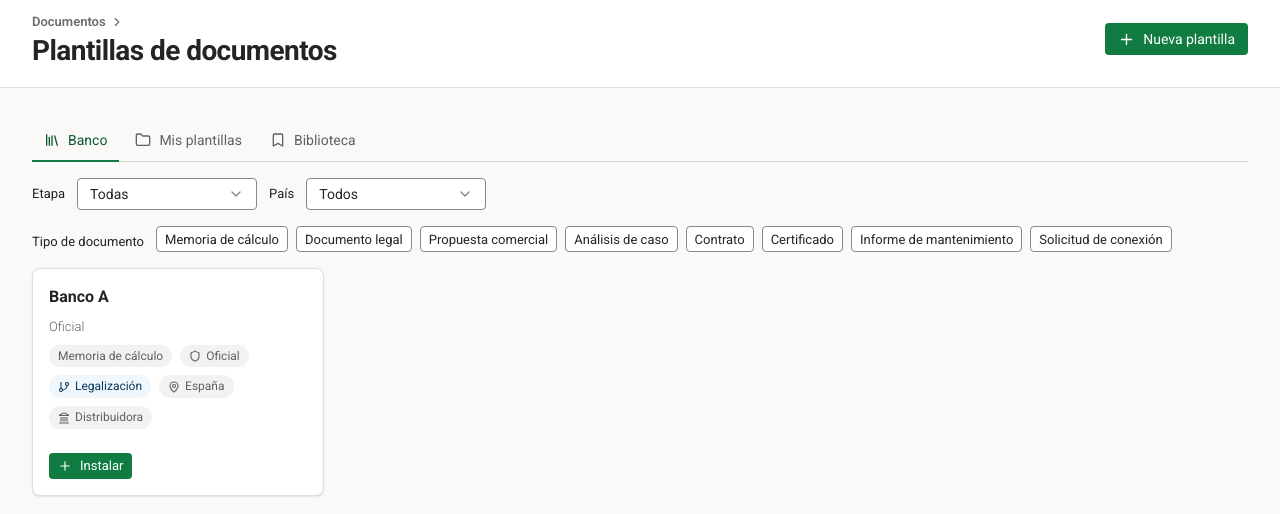
TemplatesGallery tag filters › filters out cards that do not match the selected stage
Check: the text "Banco A" is shown, box [49,285,109,309]
Select "Entrega" in the dropdown labelled "Etapa" at (167, 194), box [77,178,257,210]
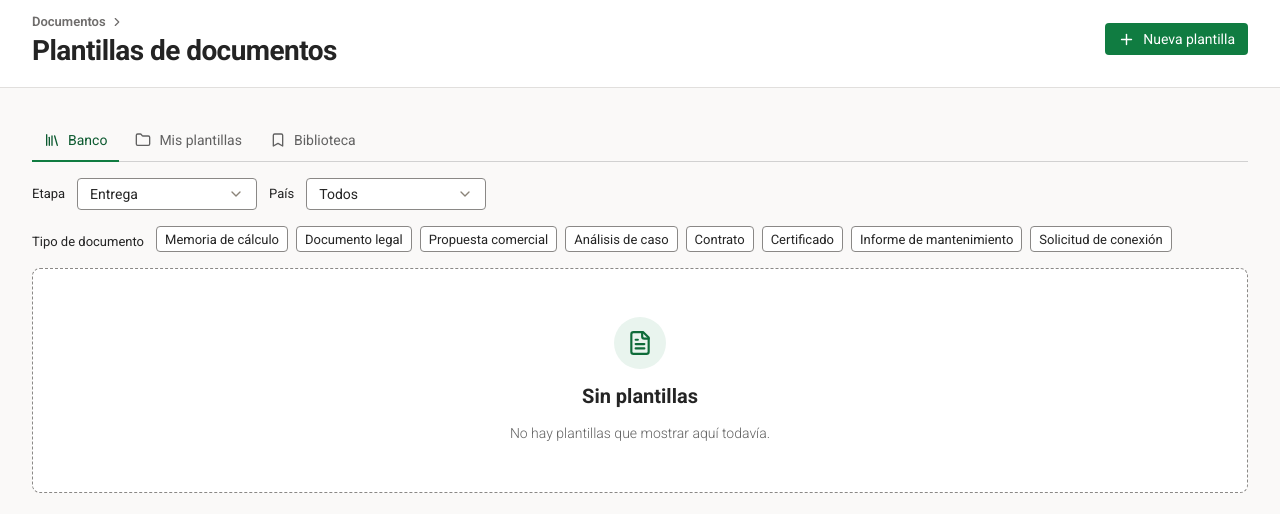
Check: the text "Banco A" is gone
